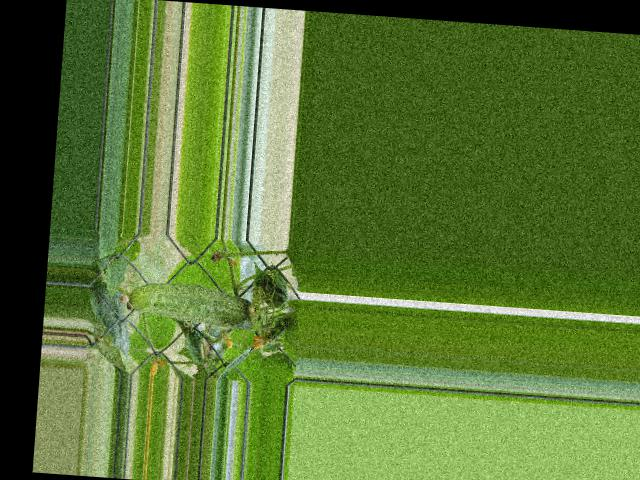cucumber: (119, 280, 262, 329)
